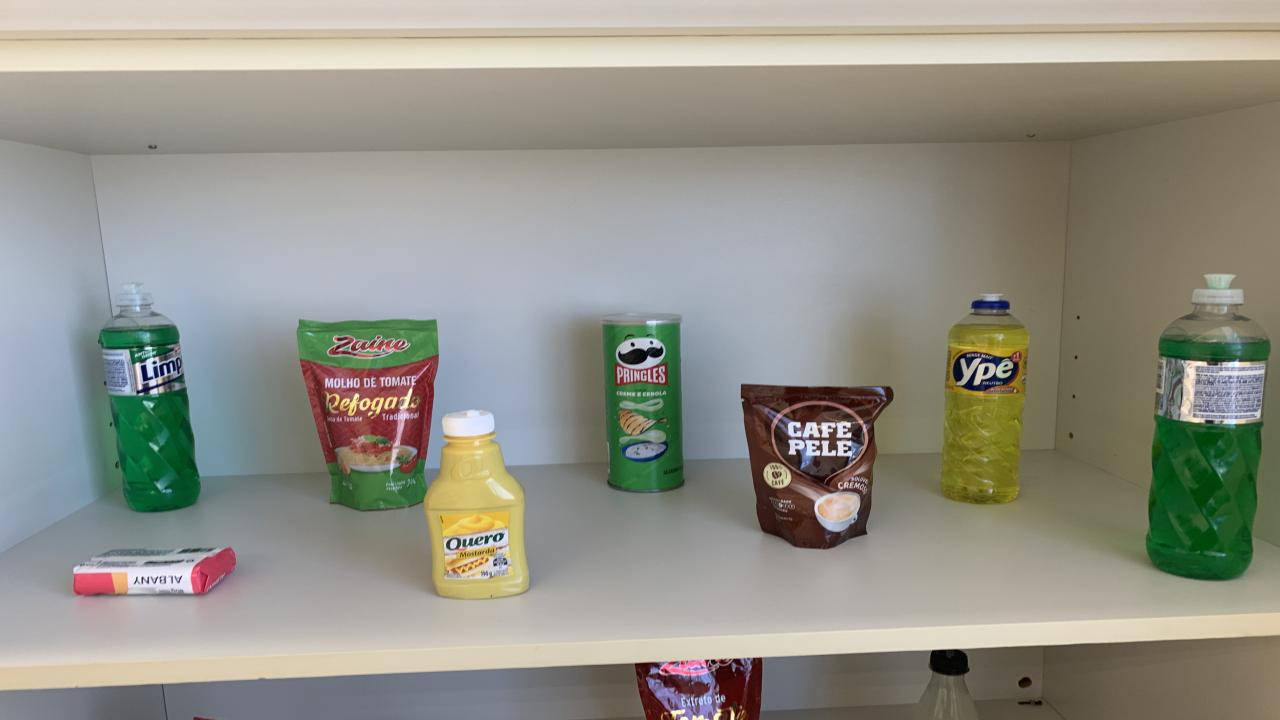Coffee-Pantry_Items: (742, 384, 892, 548)
Detergent-Cleanup_Items: (1148, 274, 1270, 579), (100, 285, 200, 512), (940, 294, 1030, 504)
Mustard-Pantry_Items: (425, 409, 530, 598)
Pringles-Snacks: (602, 313, 685, 491)
Soap-Cleanup_Items: (72, 548, 235, 594)
Soda-Drinks: (915, 649, 978, 720)
Tomato_Sauce-Pantry_Items: (298, 319, 440, 510), (635, 658, 762, 720)
